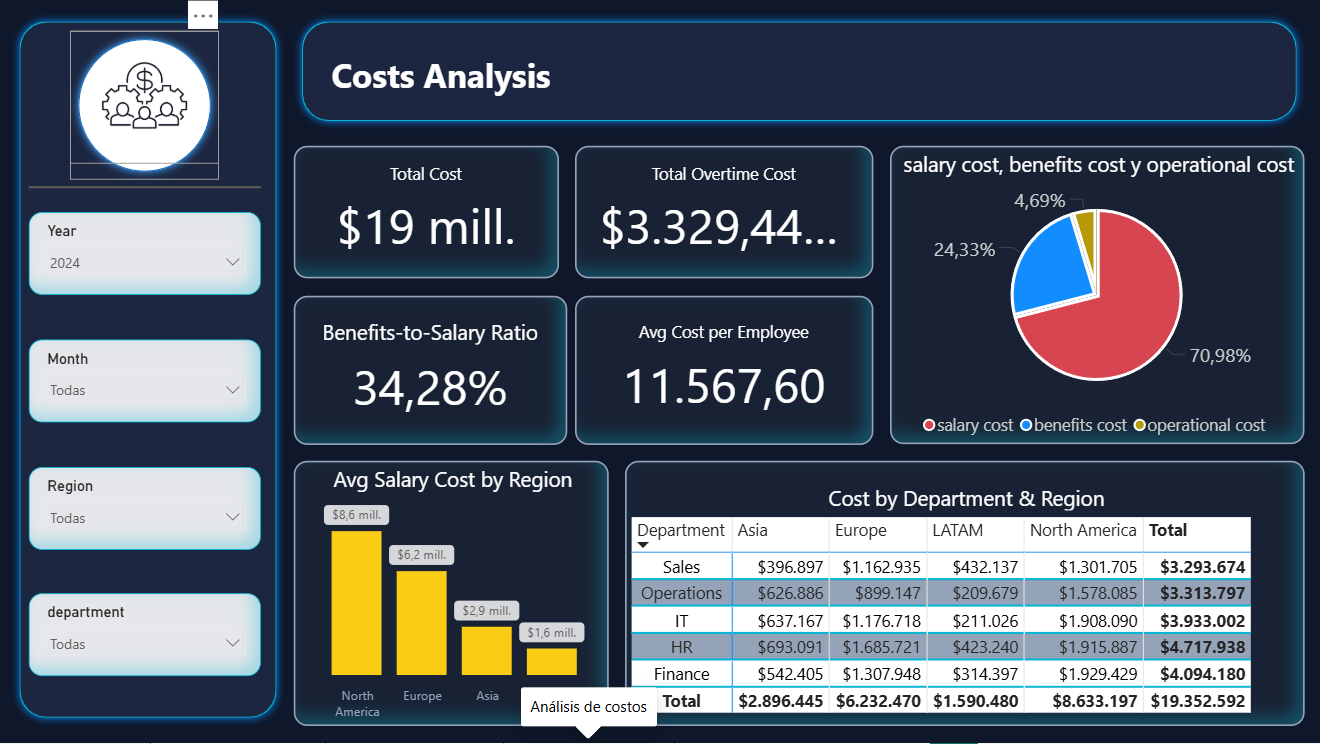

What the dashboard file says about the page in this screenshot:
{"tool":"powerbi","page":{"name":"Análisis de costos","canvas":[1280,720],"ordinal":2},"visuals":[{"type":"shape","box":[16,16,264,688],"z":0},{"type":"shape","box":[288,16,976,112],"z":1000},{"type":"slicer","fields":{"Values":["regions.region_name"]},"box":[32,453.3,224,80],"z":2000},{"type":"slicer","fields":{"Values":["departments.department_name"]},"box":[32,576,224,80],"z":3000},{"type":"slicer","fields":{"Values":["Calendario 2.Mes"]},"box":[32,330.7,224,80],"z":4000},{"type":"shape","box":[32,144,224,80],"z":5000},{"type":"clusteredColumnChart","title":"Avg Salary Cost by Region","fields":{"Category":["regions.region_name"],"Y":["Metricas.CostoTotal"]},"box":[288,448,304,256],"z":6000},{"type":"pivotTable","title":"Cost by Department & Region","fields":{"Rows":["departments.department_name"],"Values":["Metricas.CostoTotal"],"Columns":["regions.region_name"]},"box":[608,448,656,256],"z":7000},{"type":"textbox","box":[320,48,496,64],"z":8000},{"type":"cardVisual","title":"Costo total","fields":{"Data":["Metricas.Ratio Beneficios sobre Salario"]},"box":[288,288,264,144],"z":9000},{"type":"cardVisual","fields":{"Data":["Metricas.Costo Horas Extra"]},"box":[560,144,288,128],"z":10000},{"type":"cardVisual","title":"Costo total","fields":{"Data":["Metricas.CostoTotal"]},"box":[288,144,256,128],"z":11000},{"type":"cardVisual","fields":{"Data":["Metricas.Costo promedio por empleado"]},"box":[560,288,288,144],"z":12000},{"type":"shape","box":[72,32,144,144],"z":12500,"group":"g1"},{"type":"group","id":"g1","title":"Grupo 1","box":[72,32,144,144],"z":13000},{"type":"pieChart","fields":{"Y":["Sum(workforce_costs.salary_cost)","Sum(workforce_costs.benefits_cost)","Sum(workforce_costs.operational_cost)"]},"box":[864,144,400,288],"z":14000},{"type":"image","box":[72,32,144,128],"z":14002,"group":"g1"},{"type":"slicer","fields":{"Values":["Calendario 2.Año"]},"box":[32,208,224,80],"z":15000}]}

Visuals, with their boxes on the page's 1280x720 design canvas (x1, y1, x2, y2). These are canvas units, not pixel positions in the 1320x744 screenshot, which may show the page scaled, cropped or inside an application window:
shape: BBox(16, 16, 280, 704)
shape: BBox(288, 16, 1264, 128)
slicer - regions.region_name: BBox(32, 453, 256, 533)
slicer - departments.department_name: BBox(32, 576, 256, 656)
slicer - Calendario 2.Mes: BBox(32, 331, 256, 411)
shape: BBox(32, 144, 256, 224)
"Avg Salary Cost by Region" clusteredColumnChart: BBox(288, 448, 592, 704)
"Cost by Department & Region" pivotTable: BBox(608, 448, 1264, 704)
textbox: BBox(320, 48, 816, 112)
"Costo total" cardVisual: BBox(288, 288, 552, 432)
cardVisual - Metricas.Costo Horas Extra: BBox(560, 144, 848, 272)
"Costo total" cardVisual: BBox(288, 144, 544, 272)
cardVisual - Metricas.Costo promedio por empleado: BBox(560, 288, 848, 432)
shape: BBox(72, 32, 216, 176)
"Grupo 1" group: BBox(72, 32, 216, 176)
pieChart - Sum(workforce_costs.salary_cost) x Sum(workforce_costs.benefits_cost): BBox(864, 144, 1264, 432)
image: BBox(72, 32, 216, 160)
slicer - Calendario 2.Año: BBox(32, 208, 256, 288)
